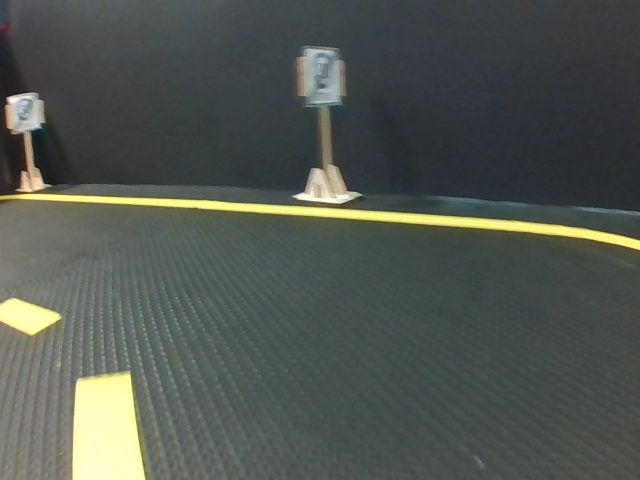no30: (307, 47, 339, 105), (9, 95, 39, 129)
